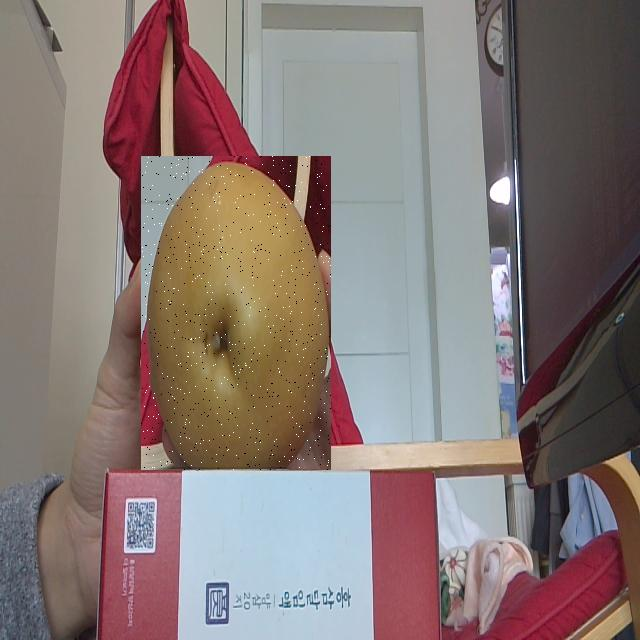pear: (141, 156, 331, 470)
